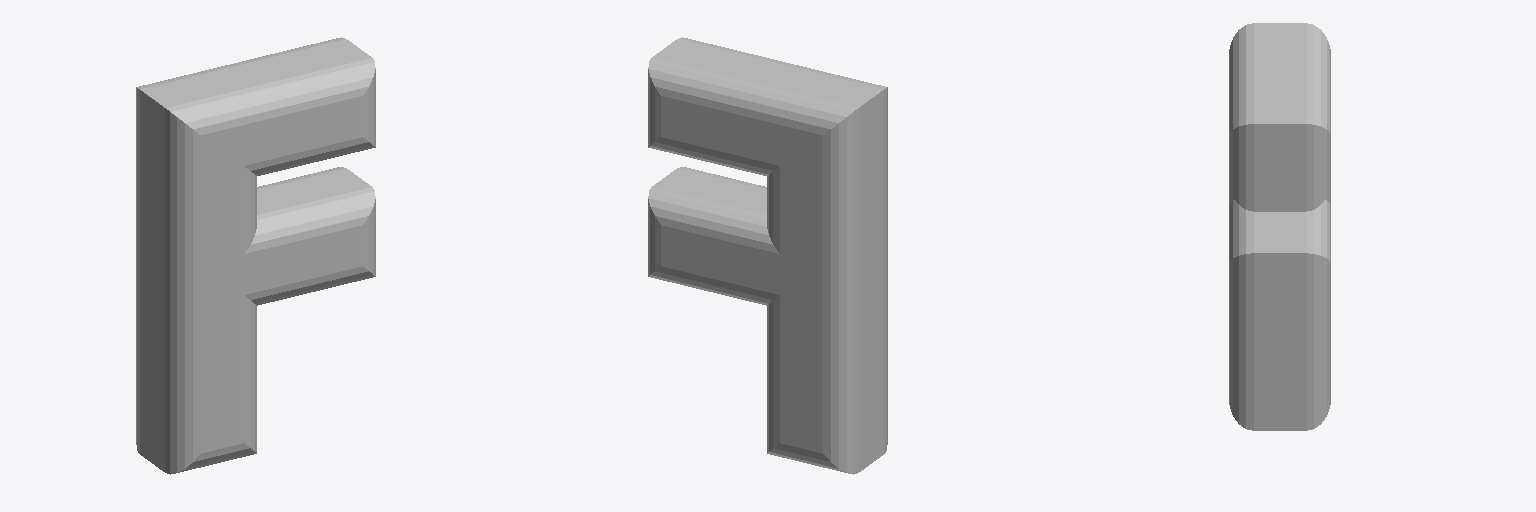
3 renders of one model, left to right at view 1: azimuth 30°, elevation 25°; view 2: azimuth 150°, elevation 25°; view 3: azimuth 270°, elevation 25°, orthographic.
Visible parts, largest first — view 1: テキスト; view 2: テキスト; view 3: テキスト.
Part boxes in pixels (x1,y1,x2,y2): テキスト: (136, 37, 375, 474); テキスト: (648, 37, 887, 474); テキスト: (1229, 23, 1330, 430).
Size of the model in its own units: 0.464 by 0.782 by 0.2.